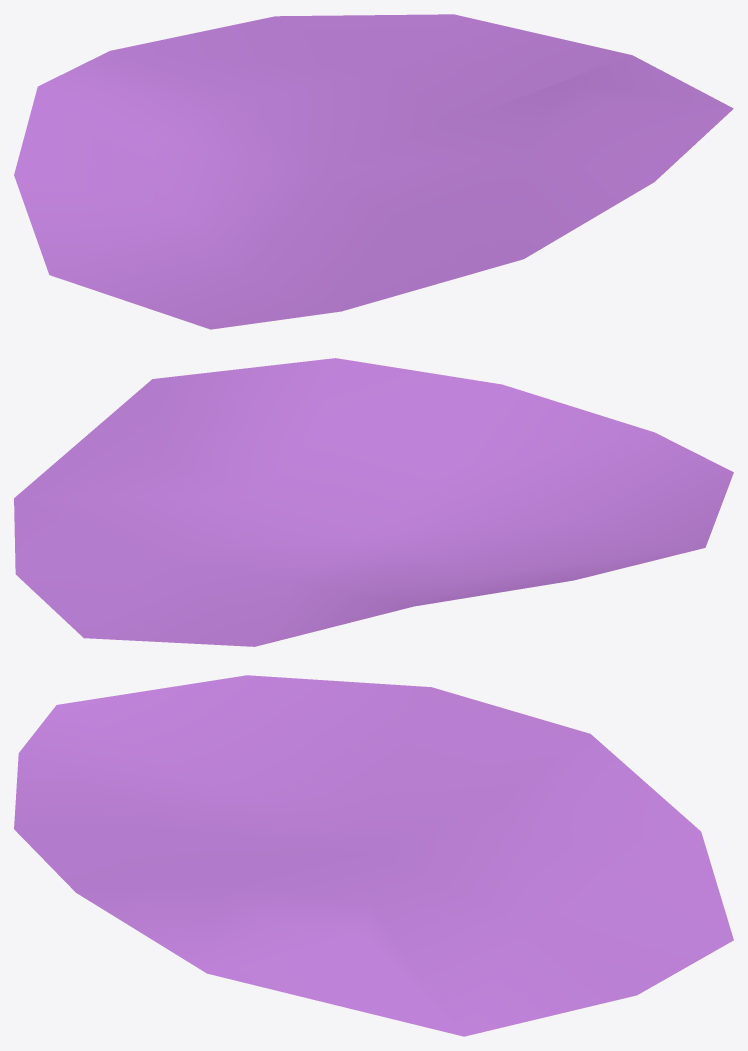
Rendered from sakura3.fbx.
3 renders of one model, top to bottom at view 1: azimuth 30°, elevation 25°; view 2: azimuth 150°, elevation 25°; view 3: azimuth 270°, elevation 25°, orthographic. The views are drawn at different scales.
Visible parts, largest first — view 1: polySurface1; view 2: polySurface1; view 3: polySurface1.
Part boxes in pixels (box(x1,y1,x2,y2)): polySurface1: box(14, 14, 733, 329); polySurface1: box(14, 358, 733, 646); polySurface1: box(14, 675, 733, 1036).
Size of the model in its own units: 41.01 by 3.93 by 37.64.
